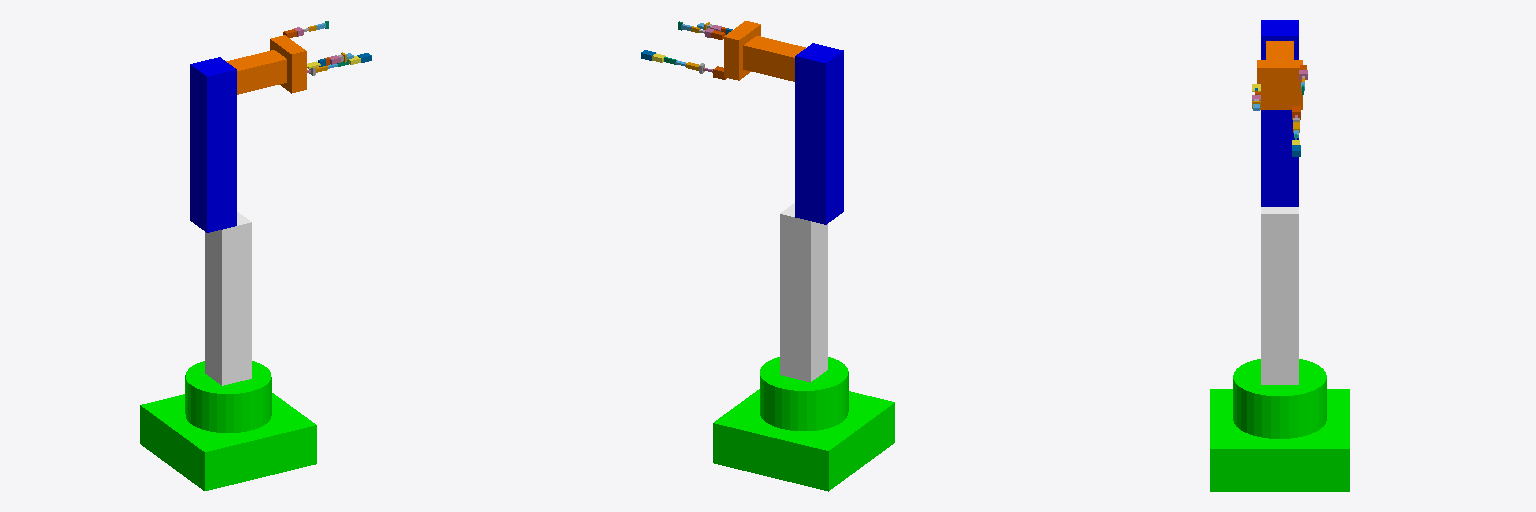
robot.urdf — robot:
<?xml version='1.0' encoding='utf-8'?>
<robot name="robot">
  <link name="base_link">
    <visual>
      <origin xyz="0 0 0.125" rpy="0 0 0" />
      <geometry>
        <box size="0.75 0.75 0.25" />
      </geometry>
      <material name="green" />
    </visual>
    <visual>
      <origin xyz="0 0 0.375" rpy="0 0 0" />
      <geometry>
        <cylinder length="0.25" radius="0.25" />
      </geometry>
      <material name="green">
        <color rgba="0 1 0 1" />
      </material>
    </visual>
    <collision>
      <geometry>
        <box size="0.75 0.75 0.5" />
      </geometry>
    </collision>
    <inertial>
      <mass value="0.5" />
      <inertia ixx="0.034" ixy="0.0" ixz="0.0" iyy="0.034" iyz="0.0" izz="0.034" />
    </inertial>
  </link>
  <link name="support_link">
    <visual>
      <origin xyz="0 0 0.5" rpy="0 0 0" />
      <geometry>
        <box size="0.2 0.2 1" />
      </geometry>
      <material name="white">
        <color rgba="1 1 1 1" />
      </material>
    </visual>
    <collision>
      <geometry>
        <box size="0.2 0.2 1" />
      </geometry>
    </collision>
    <inertial>
      <mass value="0.1" />
      <inertia ixx="0.01" ixy="0.0" ixz="0.0" iyy="0.01" iyz="0.0" izz="0.01" />
    </inertial>
  </link>
  <joint name="support_joint" type="continuous">
    <origin xyz="0 0 0.5" rpy="0 0 0" />
    <parent link="base_link" />
    <child link="support_link" />
    <axis xyz="0 0 1" />
  </joint>
  <link name="arm_link">
    <visual>
      <origin xyz="0 0 0.5" rpy="0 0 0" />
      <geometry>
        <box size="0.2 0.2 1" />
      </geometry>
      <material name="blue">
        <color rgba="0 0 1 1" />
      </material>
    </visual>
    <collision>
      <geometry>
        <box size="0.2 0.2 1" />
      </geometry>
    </collision>
    <inertial>
      <mass value="0.1" />
      <inertia ixx="0.01" ixy="0.0" ixz="0.0" iyy="0.01" iyz="0.0" izz="0.01" />
    </inertial>
  </link>
  <joint name="arm_joint" type="revolute">
    <origin xyz="-0.1 0 1" rpy="0 0 0" />
    <parent link="support_link" />
    <child link="arm_link" />
    <axis xyz="0 1 0" />
    <limit lower="-3.14" upper="3.14" effort="1.0" velocity="1.0" />
  </joint>
  <link name="wrist_link">
    <visual>
      <origin xyz="0 0 0.25" rpy="0 0 0" />
      <geometry>
        <box size="0.15 0.15 0.5" />
      </geometry>
      <material name="orange">
        <color rgba="1 0.5 0 1" />
      </material>
    </visual>
    <collision>
      <geometry>
        <box size="0.15 0.15 0.5" />
      </geometry>
    </collision>
    <inertial>
      <mass value="0.1" />
      <inertia ixx="0.01" ixy="0.0" ixz="0.0" iyy="0.01" iyz="0.0" izz="0.01" />
    </inertial>
  </link>
  <joint name="wrist_joint" type="fixed">
    <origin xyz="0 0 0.9" rpy="0 1.571 0" />
    <parent link="arm_link" />
    <child link="wrist_link" />
  </joint>
  <link name="palm_link">
    <visual>
      <origin xyz="0 0 0.05" rpy="0 0 0" />
      <geometry>
        <box size="0.25 0.25 0.1" />
      </geometry>
      <material name="orange" />
    </visual>
    <collision>
      <geometry>
        <box size="0.25 0.25 0.1" />
      </geometry>
    </collision>
    <inertial>
      <mass value="0.1" />
      <inertia ixx="0.01" ixy="0.0" ixz="0.0" iyy="0.01" iyz="0.0" izz="0.01" />
    </inertial>
  </link>
  <joint name="palm_joint" type="fixed">
    <origin xyz="0 0 0.45" rpy="0 0 0" />
    <parent link="wrist_link" />
    <child link="palm_link" />
  </joint>
  <link name="finger_link_0_0">
    <visual>
      <origin xyz="0 0 0.037" rpy="0 0 0" />
      <geometry>
        <box size="0.05 0.049 0.074" />
      </geometry>
    </visual>
    <collision>
      <geometry>
        <box size="0.05 0.049 0.074" />
      </geometry>
    </collision>
    <inertial>
      <mass value="0.054" />
      <inertia ixx="0.0" iyy="0.0" izz="0.0" ixy="0" ixz="0" iyz="0" />
    </inertial>
  </link>
  <joint name="finger_joint_palm_link_to_finger_link_0_0" type="revolute">
    <origin xyz="0.125 0.087 0.1" rpy="0 0 0" />
    <parent link="palm_link" />
    <child link="finger_link_0_0" />
    <axis xyz="0.0 1.0 0.0" />
    <limit lower="-3.142" upper="3.142" effort="10" velocity="10" />
  </joint>
  <link name="finger_link_0_1">
    <visual>
      <origin xyz="0 0 0.039" rpy="0 0 0" />
      <geometry>
        <box size="0.013 0.013 0.078" />
      </geometry>
    </visual>
    <collision>
      <geometry>
        <box size="0.013 0.013 0.078" />
      </geometry>
    </collision>
    <inertial>
      <mass value="0.004" />
      <inertia ixx="0.0" iyy="0.0" izz="0.0" ixy="0" ixz="0" iyz="0" />
    </inertial>
  </link>
  <joint name="finger_joint_finger_link_0_0_to_finger_link_0_1" type="revolute">
    <origin xyz="0.0 0.0 0.074" rpy="0 0 0" />
    <parent link="finger_link_0_0" />
    <child link="finger_link_0_1" />
    <axis xyz="0.0 1.0 0.0" />
    <limit lower="-3.142" upper="3.142" effort="10" velocity="10" />
  </joint>
  <link name="finger_link_0_2">
    <visual>
      <origin xyz="0 0 0.0105" rpy="0 0 0" />
      <geometry>
        <box size="0.048 0.039 0.021" />
      </geometry>
    </visual>
    <collision>
      <geometry>
        <box size="0.048 0.039 0.021" />
      </geometry>
    </collision>
    <inertial>
      <mass value="0.012" />
      <inertia ixx="0.0" iyy="0.0" izz="0.0" ixy="0" ixz="0" iyz="0" />
    </inertial>
  </link>
  <joint name="finger_joint_finger_link_0_1_to_finger_link_0_2" type="revolute">
    <origin xyz="0.0 0.0 0.078" rpy="0 0 0" />
    <parent link="finger_link_0_1" />
    <child link="finger_link_0_2" />
    <axis xyz="0.0 1.0 0.0" />
    <limit lower="-3.142" upper="3.142" effort="10" velocity="10" />
  </joint>
  <link name="finger_link_0_3">
    <visual>
      <origin xyz="0 0 0.043" rpy="0 0 0" />
      <geometry>
        <box size="0.023 0.035 0.086" />
      </geometry>
    </visual>
    <collision>
      <geometry>
        <box size="0.023 0.035 0.086" />
      </geometry>
    </collision>
    <inertial>
      <mass value="0.021" />
      <inertia ixx="0.0" iyy="0.0" izz="0.0" ixy="0" ixz="0" iyz="0" />
    </inertial>
  </link>
  <joint name="finger_joint_finger_link_0_2_to_finger_link_0_3" type="revolute">
    <origin xyz="0.0 0.0 0.021" rpy="0 0 0" />
    <parent link="finger_link_0_2" />
    <child link="finger_link_0_3" />
    <axis xyz="0.0 1.0 0.0" />
    <limit lower="-3.142" upper="3.142" effort="10" velocity="10" />
  </joint>
  <link name="finger_link_0_4">
    <visual>
      <origin xyz="0 0 0.0345" rpy="0 0 0" />
      <geometry>
        <box size="0.013 0.024 0.069" />
      </geometry>
    </visual>
    <collision>
      <geometry>
        <box size="0.013 0.024 0.069" />
      </geometry>
    </collision>
    <inertial>
      <mass value="0.006" />
      <inertia ixx="0.0" iyy="0.0" izz="0.0" ixy="0" ixz="0" iyz="0" />
    </inertial>
  </link>
  <joint name="finger_joint_finger_link_0_3_to_finger_link_0_4" type="revolute">
    <origin xyz="0.0 0.0 0.086" rpy="0 0 0" />
    <parent link="finger_link_0_3" />
    <child link="finger_link_0_4" />
    <axis xyz="0.0 1.0 0.0" />
    <limit lower="-3.142" upper="3.142" effort="10" velocity="10" />
  </joint>
  <link name="finger_link_0_5">
    <visual>
      <origin xyz="0 0 0.039" rpy="0 0 0" />
      <geometry>
        <box size="0.028 0.012 0.078" />
      </geometry>
    </visual>
    <collision>
      <geometry>
        <box size="0.028 0.012 0.078" />
      </geometry>
    </collision>
    <inertial>
      <mass value="0.008" />
      <inertia ixx="0.0" iyy="0.0" izz="0.0" ixy="0" ixz="0" iyz="0" />
    </inertial>
  </link>
  <joint name="finger_joint_finger_link_0_4_to_finger_link_0_5" type="revolute">
    <origin xyz="0.0 0.0 0.069" rpy="0 0 0" />
    <parent link="finger_link_0_4" />
    <child link="finger_link_0_5" />
    <axis xyz="0.0 1.0 0.0" />
    <limit lower="-3.142" upper="3.142" effort="10" velocity="10" />
  </joint>
  <link name="finger_link_0_6">
    <visual>
      <origin xyz="0 0 0.0335" rpy="0 0 0" />
      <geometry>
        <box size="0.028 0.043 0.067" />
      </geometry>
    </visual>
    <collision>
      <geometry>
        <box size="0.028 0.043 0.067" />
      </geometry>
    </collision>
    <inertial>
      <mass value="0.024" />
      <inertia ixx="0.0" iyy="0.0" izz="0.0" ixy="0" ixz="0" iyz="0" />
    </inertial>
  </link>
  <joint name="finger_joint_finger_link_0_5_to_finger_link_0_6" type="revolute">
    <origin xyz="0.0 0.0 0.078" rpy="0 0 0" />
    <parent link="finger_link_0_5" />
    <child link="finger_link_0_6" />
    <axis xyz="0.0 1.0 0.0" />
    <limit lower="-3.142" upper="3.142" effort="10" velocity="10" />
  </joint>
  <link name="finger_link_0_7">
    <visual>
      <origin xyz="0 0 0.0365" rpy="0 0 0" />
      <geometry>
        <box size="0.034 0.048 0.073" />
      </geometry>
    </visual>
    <collision>
      <geometry>
        <box size="0.034 0.048 0.073" />
      </geometry>
    </collision>
    <inertial>
      <mass value="0.036" />
      <inertia ixx="0.0" iyy="0.0" izz="0.0" ixy="0" ixz="0" iyz="0" />
    </inertial>
  </link>
  <joint name="finger_joint_finger_link_0_6_to_finger_link_0_7" type="revolute">
    <origin xyz="0.0 0.0 0.067" rpy="0 0 0" />
    <parent link="finger_link_0_6" />
    <child link="finger_link_0_7" />
    <axis xyz="0.0 1.0 0.0" />
    <limit lower="-3.142" upper="3.142" effort="10" velocity="10" />
  </joint>
  <link name="finger_link_1_0">
    <visual>
      <origin xyz="0 0 0.035" rpy="0 0 0" />
      <geometry>
        <box size="0.032 0.038 0.07" />
      </geometry>
    </visual>
    <collision>
      <geometry>
        <box size="0.032 0.038 0.07" />
      </geometry>
    </collision>
    <inertial>
      <mass value="0.026" />
      <inertia ixx="0.0" iyy="0.0" izz="0.0" ixy="0" ixz="0" iyz="0" />
    </inertial>
  </link>
  <joint name="finger_joint_palm_link_to_finger_link_1_0" type="revolute">
    <origin xyz="-0.125 0.123 0.1" rpy="0 0 0" />
    <parent link="palm_link" />
    <child link="finger_link_1_0" />
    <axis xyz="0.0 -1.0 0.0" />
    <limit lower="-3.142" upper="3.142" effort="10" velocity="10" />
  </joint>
  <link name="finger_link_1_1">
    <visual>
      <origin xyz="0 0 0.0205" rpy="0 0 0" />
      <geometry>
        <box size="0.035 0.047 0.041" />
      </geometry>
    </visual>
    <collision>
      <geometry>
        <box size="0.035 0.047 0.041" />
      </geometry>
    </collision>
    <inertial>
      <mass value="0.02" />
      <inertia ixx="0.0" iyy="0.0" izz="0.0" ixy="0" ixz="0" iyz="0" />
    </inertial>
  </link>
  <joint name="finger_joint_finger_link_1_0_to_finger_link_1_1" type="revolute">
    <origin xyz="0.0 0.0 0.07" rpy="0 0 0" />
    <parent link="finger_link_1_0" />
    <child link="finger_link_1_1" />
    <axis xyz="0.0 1.0 0.0" />
    <limit lower="-3.142" upper="3.142" effort="10" velocity="10" />
  </joint>
  <link name="finger_link_1_2">
    <visual>
      <origin xyz="0 0 0.0235" rpy="0 0 0" />
      <geometry>
        <box size="0.011 0.016 0.047" />
      </geometry>
    </visual>
    <collision>
      <geometry>
        <box size="0.011 0.016 0.047" />
      </geometry>
    </collision>
    <inertial>
      <mass value="0.002" />
      <inertia ixx="0.0" iyy="0.0" izz="0.0" ixy="0" ixz="0" iyz="0" />
    </inertial>
  </link>
  <joint name="finger_joint_finger_link_1_1_to_finger_link_1_2" type="revolute">
    <origin xyz="0.0 0.0 0.041" rpy="0 0 0" />
    <parent link="finger_link_1_1" />
    <child link="finger_link_1_2" />
    <axis xyz="1.0 1.0 0.0" />
    <limit lower="-3.142" upper="3.142" effort="10" velocity="10" />
  </joint>
  <link name="finger_link_1_3">
    <visual>
      <origin xyz="0 0 0.0245" rpy="0 0 0" />
      <geometry>
        <box size="0.026 0.016 0.049" />
      </geometry>
    </visual>
    <collision>
      <geometry>
        <box size="0.026 0.016 0.049" />
      </geometry>
    </collision>
    <inertial>
      <mass value="0.006" />
      <inertia ixx="0.0" iyy="0.0" izz="0.0" ixy="0" ixz="0" iyz="0" />
    </inertial>
  </link>
  <joint name="finger_joint_finger_link_1_2_to_finger_link_1_3" type="revolute">
    <origin xyz="0.0 0.0 0.047" rpy="0 0 0" />
    <parent link="finger_link_1_2" />
    <child link="finger_link_1_3" />
    <axis xyz="0.0 1.0 0.0" />
    <limit lower="-3.142" upper="3.142" effort="10" velocity="10" />
  </joint>
  <link name="finger_link_1_4">
    <visual>
      <origin xyz="0 0 0.0315" rpy="0 0 0" />
      <geometry>
        <box size="0.025 0.018 0.063" />
      </geometry>
    </visual>
    <collision>
      <geometry>
        <box size="0.025 0.018 0.063" />
      </geometry>
    </collision>
    <inertial>
      <mass value="0.009" />
      <inertia ixx="0.0" iyy="0.0" izz="0.0" ixy="0" ixz="0" iyz="0" />
    </inertial>
  </link>
  <joint name="finger_joint_finger_link_1_3_to_finger_link_1_4" type="revolute">
    <origin xyz="0.0 0.0 0.049" rpy="0 0 0" />
    <parent link="finger_link_1_3" />
    <child link="finger_link_1_4" />
    <axis xyz="0.0 1.0 0.0" />
    <limit lower="-3.142" upper="3.142" effort="10" velocity="10" />
  </joint>
  <link name="finger_link_1_5">
    <visual>
      <origin xyz="0 0 0.0105" rpy="0 0 0" />
      <geometry>
        <box size="0.048 0.012 0.021" />
      </geometry>
    </visual>
    <collision>
      <geometry>
        <box size="0.048 0.012 0.021" />
      </geometry>
    </collision>
    <inertial>
      <mass value="0.004" />
      <inertia ixx="0.0" iyy="0.0" izz="0.0" ixy="0" ixz="0" iyz="0" />
    </inertial>
  </link>
  <joint name="finger_joint_finger_link_1_4_to_finger_link_1_5" type="revolute">
    <origin xyz="0.0 0.0 0.063" rpy="0 0 0" />
    <parent link="finger_link_1_4" />
    <child link="finger_link_1_5" />
    <axis xyz="0.0 1.0 0.0" />
    <limit lower="-3.142" upper="3.142" effort="10" velocity="10" />
  </joint>
  <link name="finger_link_2_0">
    <visual>
      <origin xyz="0 0 0.041" rpy="0 0 0" />
      <geometry>
        <box size="0.011 0.047 0.082" />
      </geometry>
    </visual>
    <collision>
      <geometry>
        <box size="0.011 0.047 0.082" />
      </geometry>
    </collision>
    <inertial>
      <mass value="0.013" />
      <inertia ixx="0.0" iyy="0.0" izz="0.0" ixy="0" ixz="0" iyz="0" />
    </inertial>
  </link>
  <joint name="finger_joint_palm_link_to_finger_link_2_0" type="revolute">
    <origin xyz="-0.024 -0.125 0.1" rpy="0 0 0" />
    <parent link="palm_link" />
    <child link="finger_link_2_0" />
    <axis xyz="1.0 0.0 0.0" />
    <limit lower="-3.142" upper="3.142" effort="10" velocity="10" />
  </joint>
  <link name="finger_link_2_1">
    <visual>
      <origin xyz="0 0 0.0215" rpy="0 0 0" />
      <geometry>
        <box size="0.04 0.02 0.043" />
      </geometry>
    </visual>
    <collision>
      <geometry>
        <box size="0.04 0.02 0.043" />
      </geometry>
    </collision>
    <inertial>
      <mass value="0.01" />
      <inertia ixx="0.0" iyy="0.0" izz="0.0" ixy="0" ixz="0" iyz="0" />
    </inertial>
  </link>
  <joint name="finger_joint_finger_link_2_0_to_finger_link_2_1" type="revolute">
    <origin xyz="0.0 0.0 0.082" rpy="0 0 0" />
    <parent link="finger_link_2_0" />
    <child link="finger_link_2_1" />
    <axis xyz="0.0 1.0 0.0" />
    <limit lower="-3.142" upper="3.142" effort="10" velocity="10" />
  </joint>
  <link name="finger_link_2_2">
    <visual>
      <origin xyz="0 0 0.015" rpy="0 0 0" />
      <geometry>
        <box size="0.042 0.019 0.03" />
      </geometry>
    </visual>
    <collision>
      <geometry>
        <box size="0.042 0.019 0.03" />
      </geometry>
    </collision>
    <inertial>
      <mass value="0.007" />
      <inertia ixx="0.0" iyy="0.0" izz="0.0" ixy="0" ixz="0" iyz="0" />
    </inertial>
  </link>
  <joint name="finger_joint_finger_link_2_1_to_finger_link_2_2" type="revolute">
    <origin xyz="0.0 0.0 0.043" rpy="0 0 0" />
    <parent link="finger_link_2_1" />
    <child link="finger_link_2_2" />
    <axis xyz="1.0 0.0 0.0" />
    <limit lower="-3.142" upper="3.142" effort="10" velocity="10" />
  </joint>
  <link name="finger_link_2_3">
    <visual>
      <origin xyz="0 0 0.0305" rpy="0 0 0" />
      <geometry>
        <box size="0.03 0.045 0.061" />
      </geometry>
    </visual>
    <collision>
      <geometry>
        <box size="0.03 0.045 0.061" />
      </geometry>
    </collision>
    <inertial>
      <mass value="0.025" />
      <inertia ixx="0.0" iyy="0.0" izz="0.0" ixy="0" ixz="0" iyz="0" />
    </inertial>
  </link>
  <joint name="finger_joint_finger_link_2_2_to_finger_link_2_3" type="revolute">
    <origin xyz="0.0 0.0 0.03" rpy="0 0 0" />
    <parent link="finger_link_2_2" />
    <child link="finger_link_2_3" />
    <axis xyz="0.0 1.0 0.0" />
    <limit lower="-3.142" upper="3.142" effort="10" velocity="10" />
  </joint>
  <link name="finger_link_2_4">
    <visual>
      <origin xyz="0 0 0.014" rpy="0 0 0" />
      <geometry>
        <box size="0.034 0.028 0.028" />
      </geometry>
    </visual>
    <collision>
      <geometry>
        <box size="0.034 0.028 0.028" />
      </geometry>
    </collision>
    <inertial>
      <mass value="0.008" />
      <inertia ixx="0.0" iyy="0.0" izz="0.0" ixy="0" ixz="0" iyz="0" />
    </inertial>
  </link>
  <joint name="finger_joint_finger_link_2_3_to_finger_link_2_4" type="revolute">
    <origin xyz="0.0 0.0 0.061" rpy="0 0 0" />
    <parent link="finger_link_2_3" />
    <child link="finger_link_2_4" />
    <axis xyz="1.0 1.0 0.0" />
    <limit lower="-3.142" upper="3.142" effort="10" velocity="10" />
  </joint>
  <link name="finger_link_2_5">
    <visual>
      <origin xyz="0 0 0.0065" rpy="0 0 0" />
      <geometry>
        <box size="0.045 0.048 0.013" />
      </geometry>
    </visual>
    <collision>
      <geometry>
        <box size="0.045 0.048 0.013" />
      </geometry>
    </collision>
    <inertial>
      <mass value="0.008" />
      <inertia ixx="0.0" iyy="0.0" izz="0.0" ixy="0" ixz="0" iyz="0" />
    </inertial>
  </link>
  <joint name="finger_joint_finger_link_2_4_to_finger_link_2_5" type="revolute">
    <origin xyz="0.0 0.0 0.028" rpy="0 0 0" />
    <parent link="finger_link_2_4" />
    <child link="finger_link_2_5" />
    <axis xyz="0.0 1.0 0.0" />
    <limit lower="-3.142" upper="3.142" effort="10" velocity="10" />
  </joint>
  <link name="finger_link_2_6">
    <visual>
      <origin xyz="0 0 0.0235" rpy="0 0 0" />
      <geometry>
        <box size="0.016 0.041 0.047" />
      </geometry>
    </visual>
    <collision>
      <geometry>
        <box size="0.016 0.041 0.047" />
      </geometry>
    </collision>
    <inertial>
      <mass value="0.009" />
      <inertia ixx="0.0" iyy="0.0" izz="0.0" ixy="0" ixz="0" iyz="0" />
    </inertial>
  </link>
  <joint name="finger_joint_finger_link_2_5_to_finger_link_2_6" type="revolute">
    <origin xyz="0.0 0.0 0.013" rpy="0 0 0" />
    <parent link="finger_link_2_5" />
    <child link="finger_link_2_6" />
    <axis xyz="0.0 1.0 0.0" />
    <limit lower="-3.142" upper="3.142" effort="10" velocity="10" />
  </joint>
</robot>

--- Render facts (derived) ---
The picture shows the robot from 3 angles, left to right: view 1: azimuth 30°, elevation 25°; view 2: azimuth 150°, elevation 25°; view 3: azimuth 270°, elevation 25°; orthographic projection.
Model robot with 26 links and 25 joints (22 revolute, 1 continuous, 2 fixed), rooted at base_link, posed all joints at 0.
Visible links, largest first — view 1: base_link, arm_link, support_link, wrist_link, palm_link; view 2: base_link, arm_link, support_link, wrist_link, palm_link; view 3: base_link, support_link, arm_link, palm_link, wrist_link.
Link boxes in pixels (bbox=[...]): base_link: bbox=[140, 361, 316, 490]; arm_link: bbox=[190, 57, 236, 232]; support_link: bbox=[205, 212, 251, 385]; wrist_link: bbox=[226, 50, 286, 94]; palm_link: bbox=[270, 35, 306, 93]; base_link: bbox=[713, 357, 894, 491]; arm_link: bbox=[795, 43, 843, 224]; support_link: bbox=[780, 203, 827, 382]; wrist_link: bbox=[743, 36, 805, 81]; palm_link: bbox=[724, 21, 760, 80]; base_link: bbox=[1210, 359, 1349, 491]; support_link: bbox=[1261, 207, 1298, 384]; arm_link: bbox=[1261, 20, 1298, 206]; palm_link: bbox=[1257, 60, 1302, 109]; wrist_link: bbox=[1266, 41, 1293, 59].
Size in the robot's own frame: 1.37 by 0.75 by 2.55 metres.
Geometry: primitives only (box / cylinder / sphere), no mesh files.